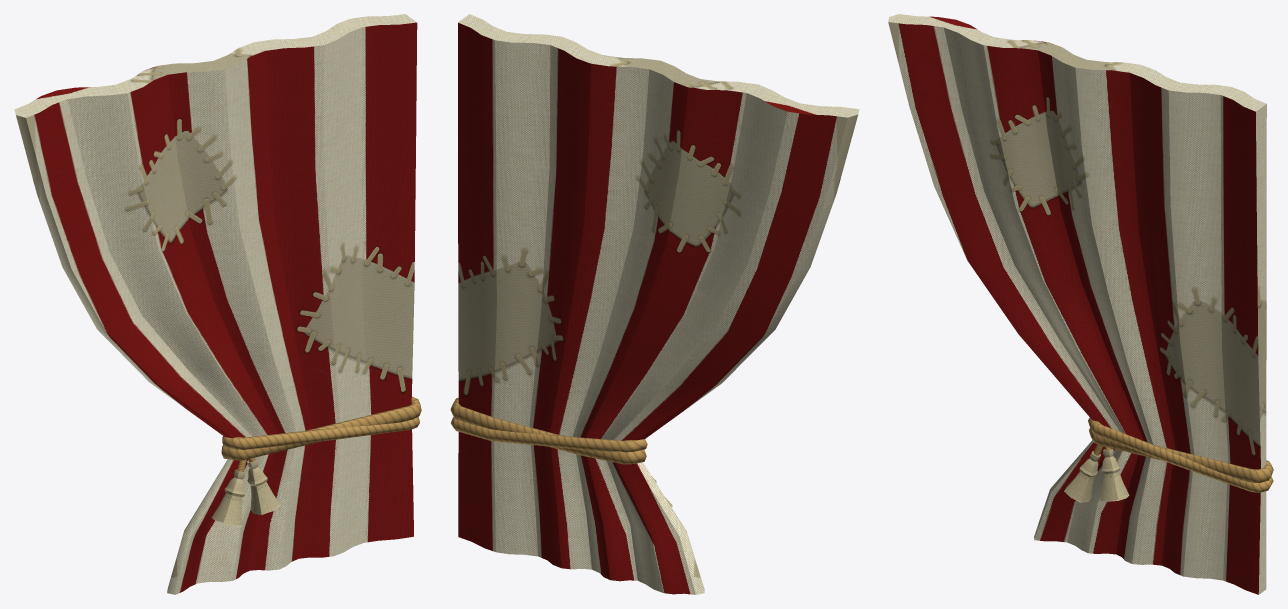
File: pirate curtan.glb
The picture shows the model from 3 angles, left to right: view 1: azimuth 30°, elevation 25°; view 2: azimuth 150°, elevation 25°; view 3: azimuth 330°, elevation 25°; orthographic projection. The views are drawn at different scales.
Parts seen in each view (by area): view 1: Curtain_LOD0; view 2: Curtain_LOD0; view 3: Curtain_LOD0.
Boxes of the visible parts, <box> form: Curtain_LOD0: <box>14,14,421,594</box>; Curtain_LOD0: <box>450,14,859,594</box>; Curtain_LOD0: <box>888,14,1273,594</box>.
Size of the model in its own units: 4.93 by 6 by 0.6102.
Materials: 1 (1 with a texture image).
